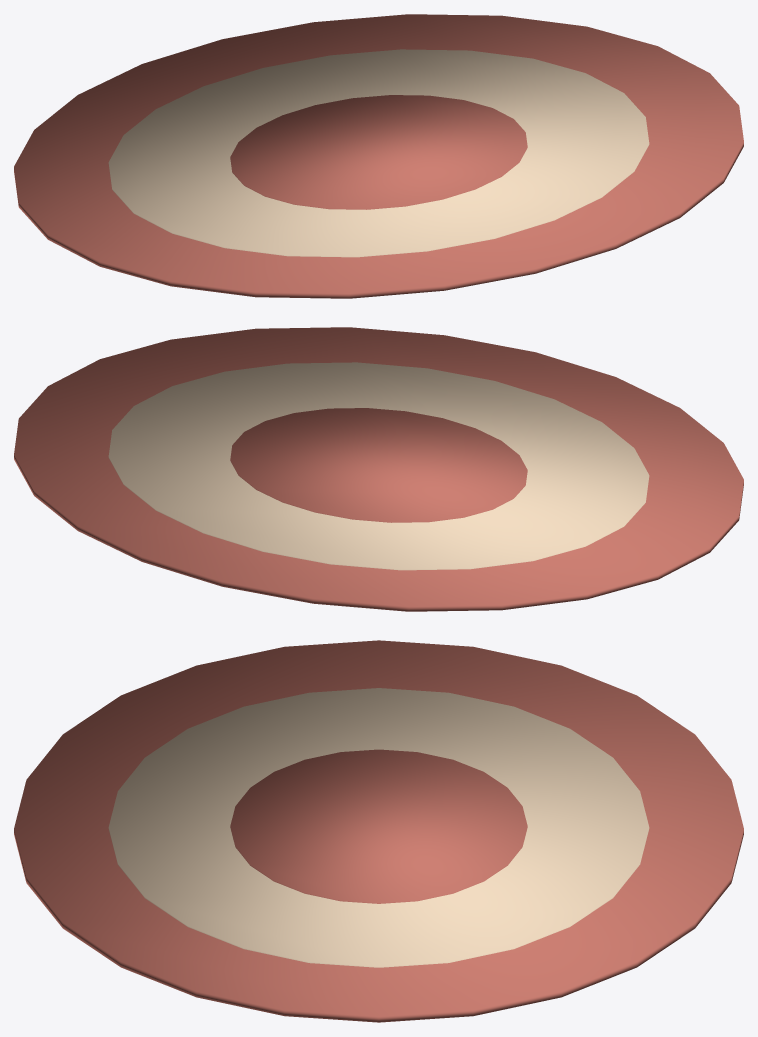
Rendered from rug.glb.
The picture shows the model from 3 angles, top to bottom: view 1: azimuth 30°, elevation 25°; view 2: azimuth 150°, elevation 25°; view 3: azimuth 270°, elevation 25°; orthographic projection. The views are drawn at different scales.
Visible parts, largest first — view 1: rug-ring, rug-ring.001, rug-ring.002; view 2: rug-ring, rug-ring.001, rug-ring.002; view 3: rug-ring, rug-ring.001, rug-ring.002.
Boxes of the visible parts, x1,y1,x2,y2 form: rug-ring: [14, 14, 743, 298]; rug-ring.001: [108, 49, 649, 257]; rug-ring.002: [230, 95, 527, 209]; rug-ring: [14, 327, 743, 611]; rug-ring.001: [108, 362, 649, 570]; rug-ring.002: [230, 408, 527, 522]; rug-ring: [14, 640, 743, 1022]; rug-ring.001: [108, 688, 649, 967]; rug-ring.002: [230, 749, 527, 903].
Size of the model in its own units: 2.7 by 0.028 by 2.21.
